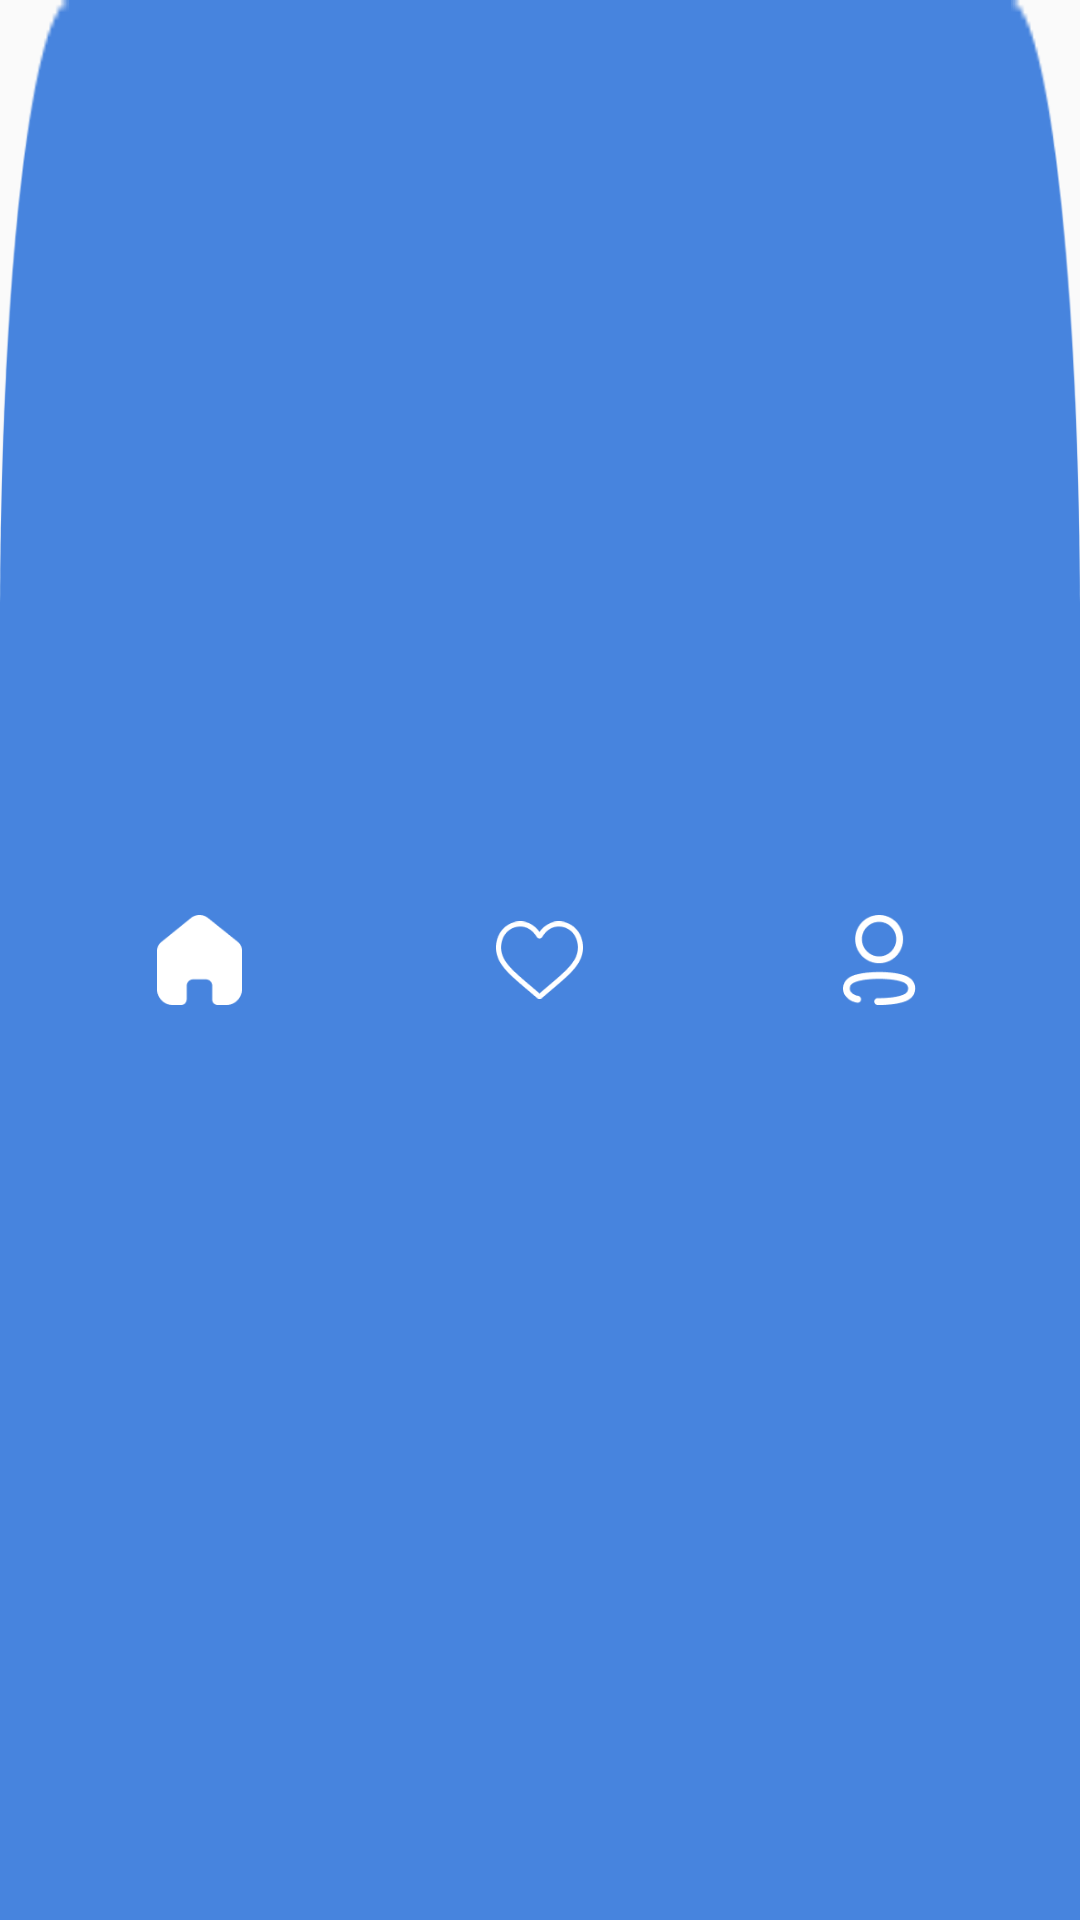

Named icons in this screenshot (1080w x 1920h) and their centers, (x=x, y=y):
account: (x=879, y=960)
home: (x=199, y=960)
love: (x=539, y=960)
